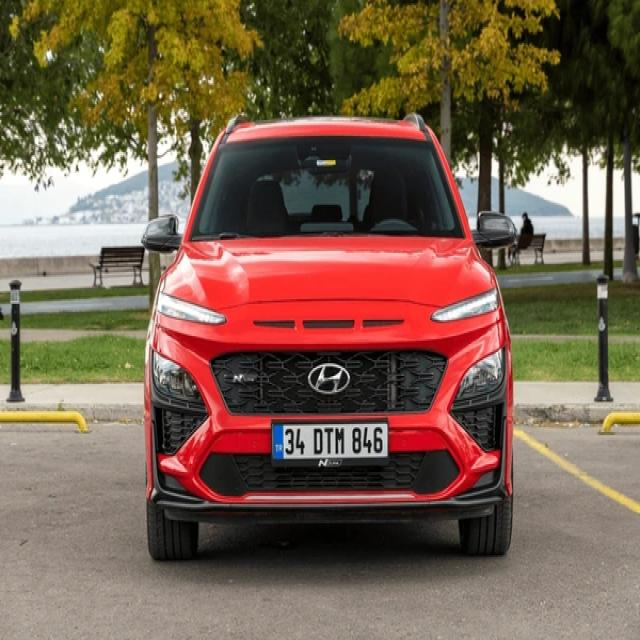hyundai: (307, 362, 353, 397)
